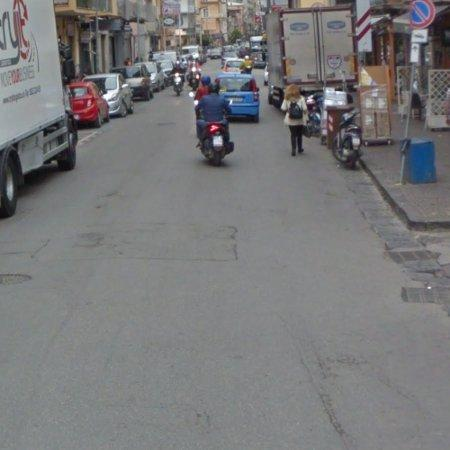motorcycles: (333, 111, 362, 167), (200, 122, 235, 166)
